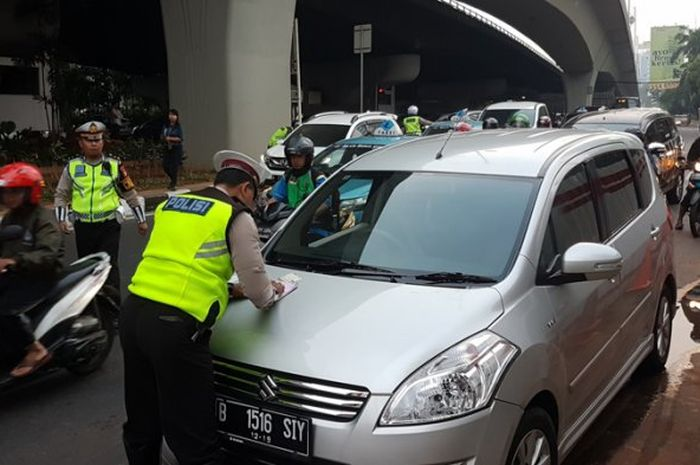plate: (216, 402, 309, 457)
